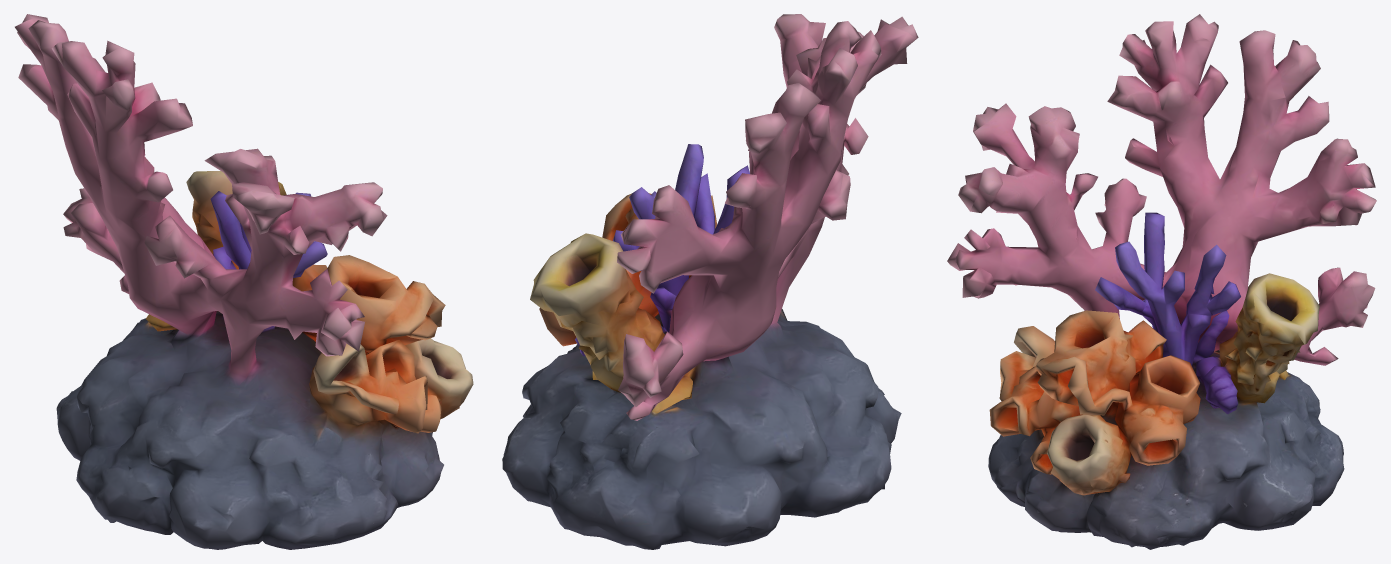
Rendered from coral-cluster.glb.
The picture shows the model from 3 angles, left to right: view 1: azimuth 30°, elevation 25°; view 2: azimuth 150°, elevation 25°; view 3: azimuth 270°, elevation 25°; orthographic projection. The views are drawn at different scales.
Visible parts, largest first — view 1: tripo_node_7665cabd-a57b-454a-a34d-548f53a5a6c5; view 2: tripo_node_7665cabd-a57b-454a-a34d-548f53a5a6c5; view 3: tripo_node_7665cabd-a57b-454a-a34d-548f53a5a6c5.
Boxes of the visible parts, bbox=[...] form: tripo_node_7665cabd-a57b-454a-a34d-548f53a5a6c5: bbox=[15, 14, 473, 549]; tripo_node_7665cabd-a57b-454a-a34d-548f53a5a6c5: bbox=[502, 14, 918, 549]; tripo_node_7665cabd-a57b-454a-a34d-548f53a5a6c5: bbox=[947, 14, 1376, 549].
Bounding box in the file's own units: 2.27 × 3 × 2.86.
Materials: 1 (1 with a texture image).
